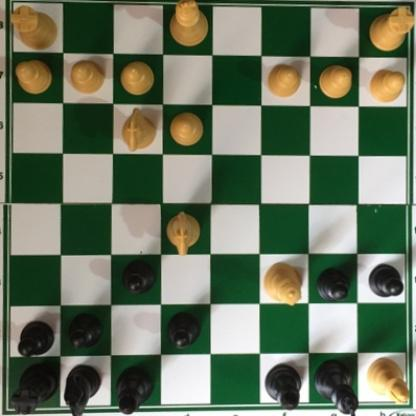black-bishop: (263, 363, 304, 415), (115, 367, 154, 415)
black-king: (313, 359, 359, 415)
black-knight: (63, 361, 101, 415)
black-pawn: (17, 320, 56, 360), (167, 312, 203, 351), (69, 311, 104, 350), (369, 262, 405, 298), (316, 267, 353, 302), (123, 259, 157, 297)
black-rook: (11, 362, 62, 415)
white-bishop: (364, 357, 410, 405)
white-king: (170, 0, 215, 50)
white-knight: (167, 208, 204, 257), (119, 107, 158, 153)
white-pawn: (15, 58, 58, 96), (368, 68, 407, 108), (265, 62, 305, 101), (119, 60, 158, 99), (315, 64, 355, 102), (69, 58, 107, 96), (169, 111, 205, 149)
white-queen: (262, 262, 305, 307)
white-rook: (11, 6, 62, 53), (367, 6, 415, 54)
